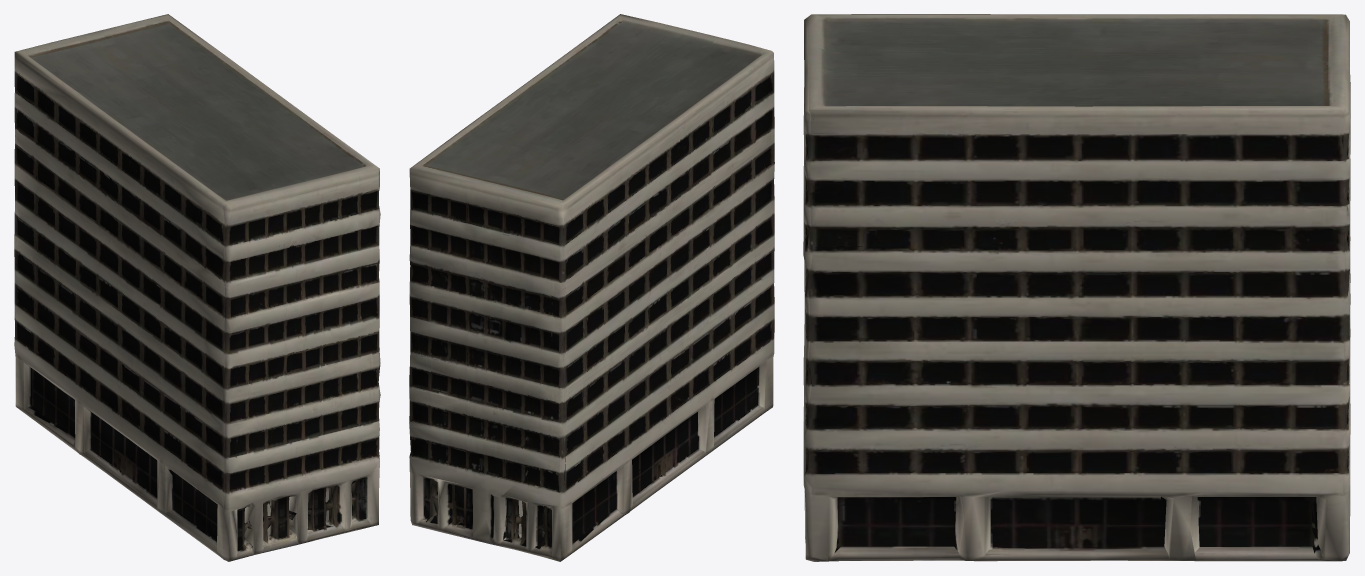
File: johnson_publishing_820_s_michigan.glb
3 views of the same model, side by side, from view 1: azimuth 30°, elevation 25°; view 2: azimuth 150°, elevation 25°; view 3: azimuth 270°, elevation 25° (orthographic). The views are drawn at different scales.
Parts seen in each view (by area): view 1: johnson_publishing_820_s_michigan; view 2: johnson_publishing_820_s_michigan; view 3: johnson_publishing_820_s_michigan.
Boxes of the visible parts, box(x1,y1,x2,y2) form: johnson_publishing_820_s_michigan: box(14, 14, 380, 561); johnson_publishing_820_s_michigan: box(409, 14, 774, 561); johnson_publishing_820_s_michigan: box(803, 14, 1350, 561).
Size of the model in its own units: 21 by 46 by 50.
Materials: 1 (1 with a texture image).
